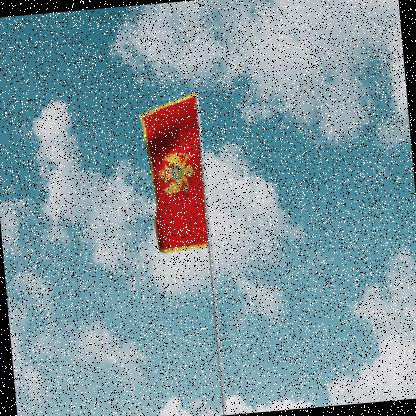me: (138, 95, 210, 258)
